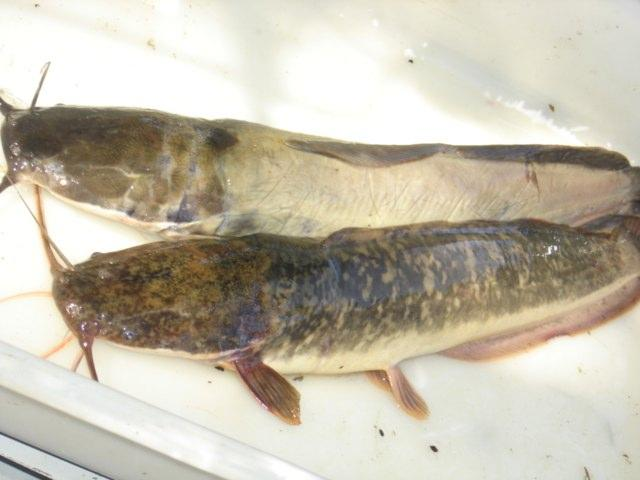Sirip Ekor: (214, 340, 316, 444)
Sirip Perut: (356, 349, 442, 431)
Sirip Punggung: (275, 117, 640, 198)
